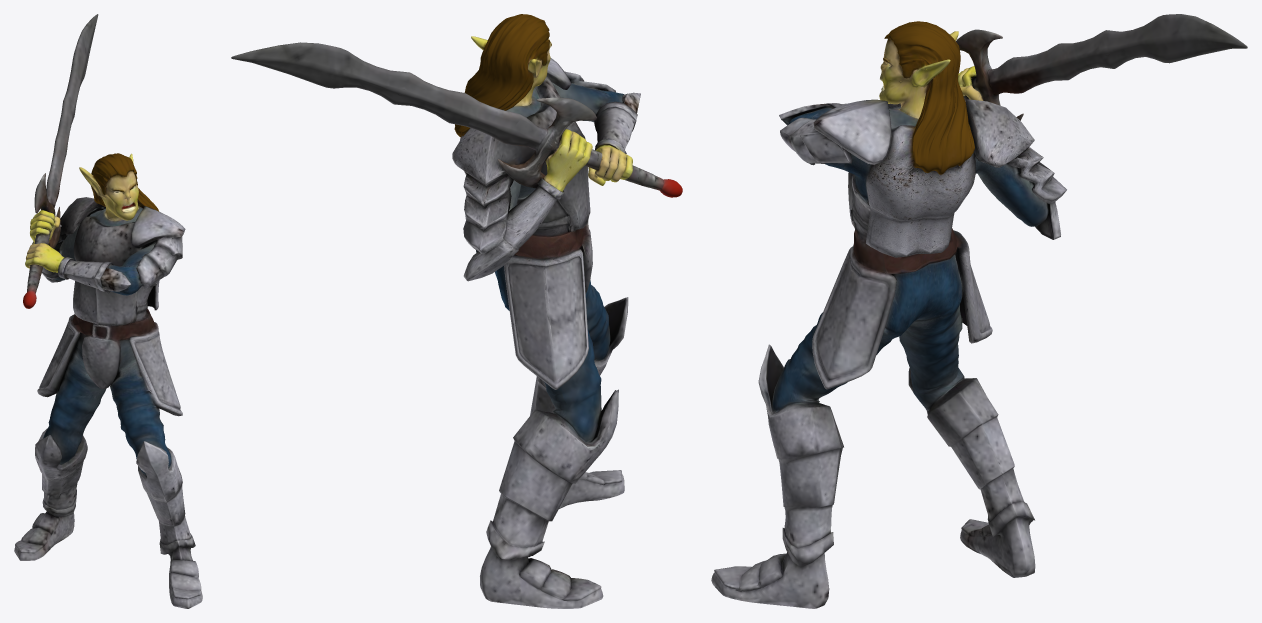
Rendered from MZ4250 - Githyanki Knight.glb.
3 renders of one model, left to right at view 1: azimuth 30°, elevation 25°; view 2: azimuth 150°, elevation 25°; view 3: azimuth 270°, elevation 25°, orthographic. The views are drawn at different scales.
Visible parts, largest first — view 1: default; view 2: default; view 3: default.
Boxes of the visible parts, x1=… form: default: x1=14, y1=14, x2=202, y2=608; default: x1=231, y1=14, x2=682, y2=608; default: x1=711, y1=14, x2=1247, y2=608.
Size of the model in its own units: 0.6467 by 1.32 by 1.05.
1 material, 1 textured.
